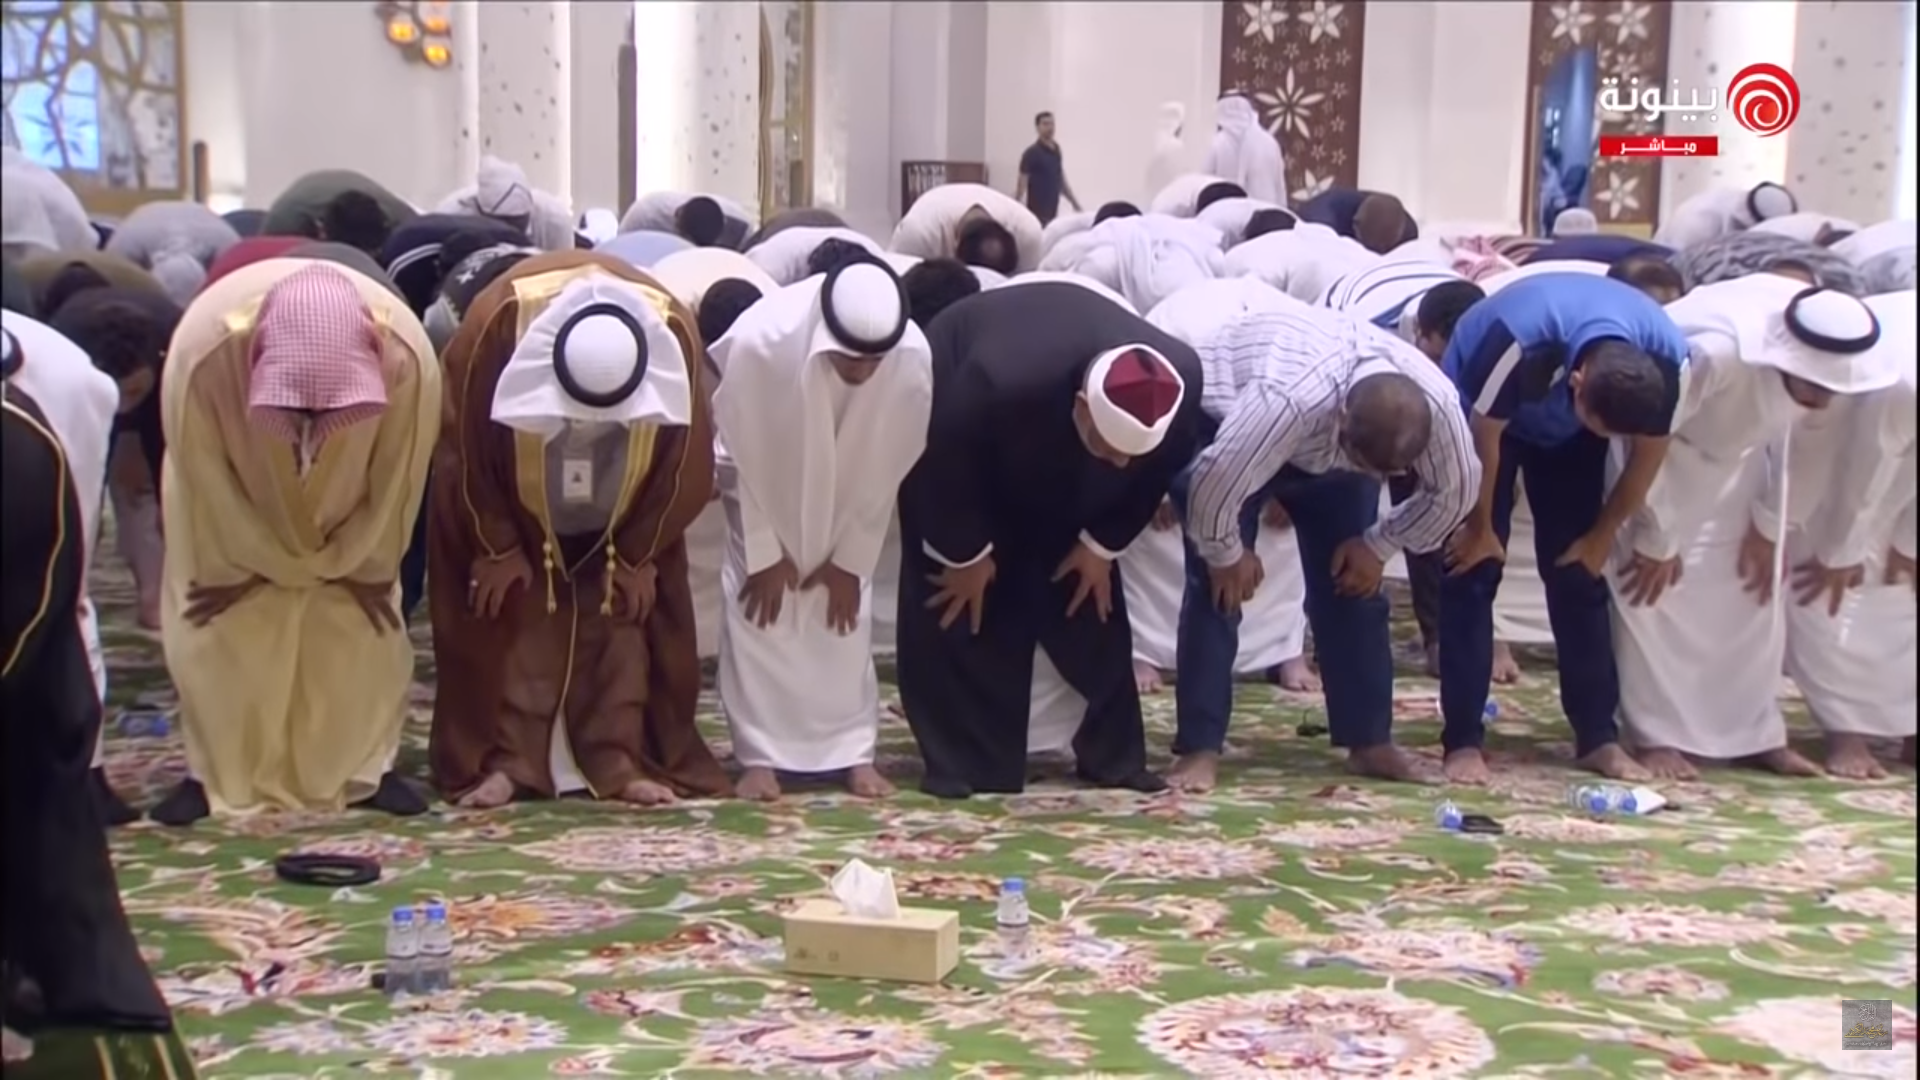ruku: (100, 244, 505, 833), (443, 255, 736, 969), (906, 233, 1232, 873), (712, 231, 957, 833)
